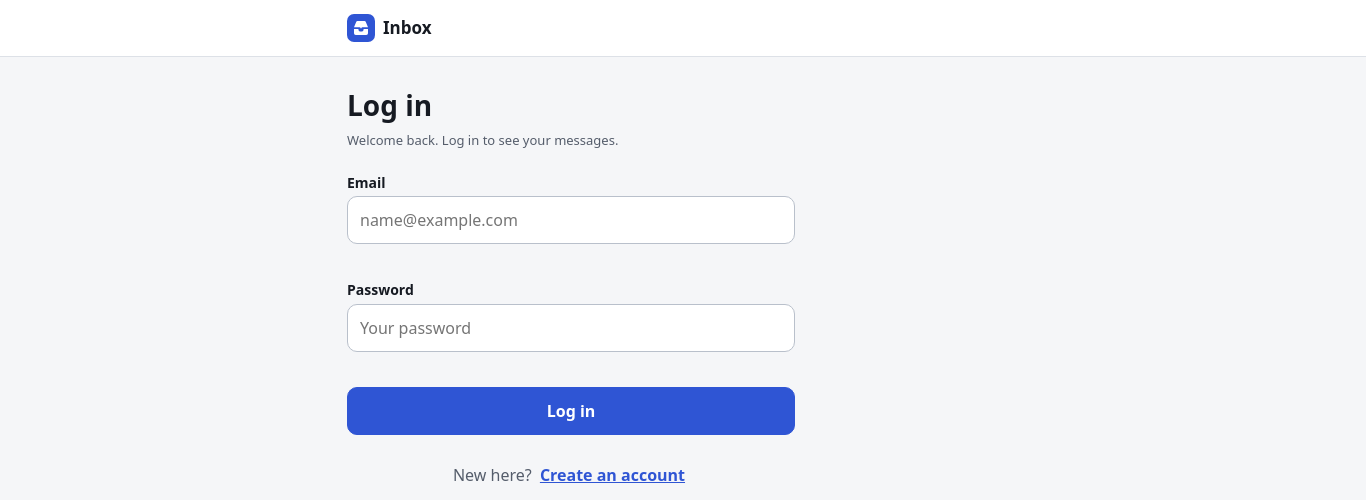
Log in › signs in and shows the inbox
The width and height of the screenshot is (1366, 500).
Step 1. Type " ada@example.com " into the field labelled "Email" → point(571, 220), box [347,196,795,244]
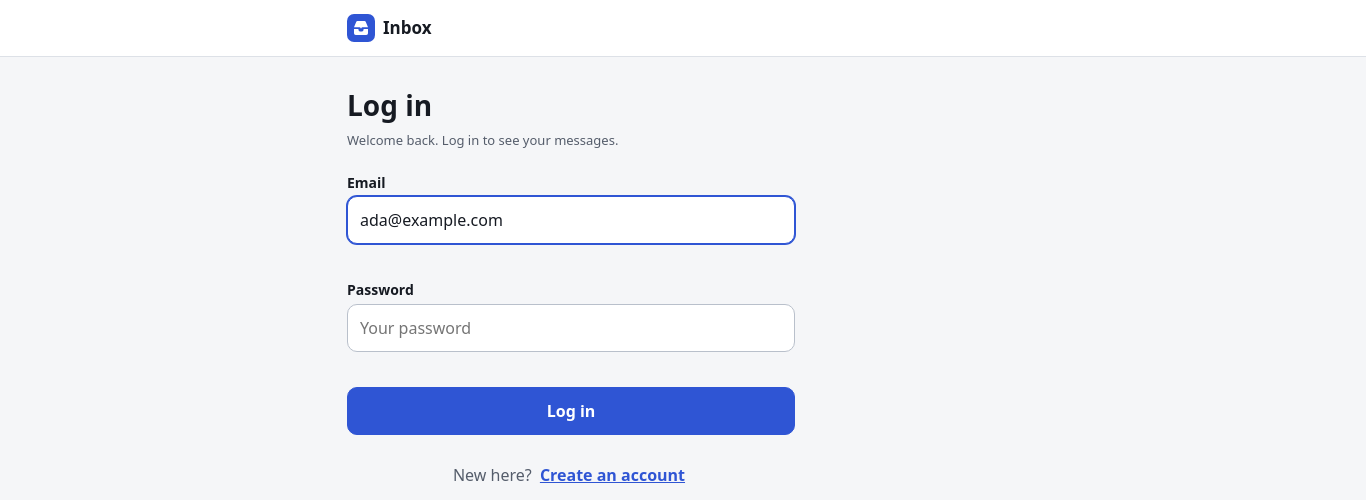
Step 2. Type "correct horse" into the password field labelled "Password" → point(571, 328), box [347,304,795,352]
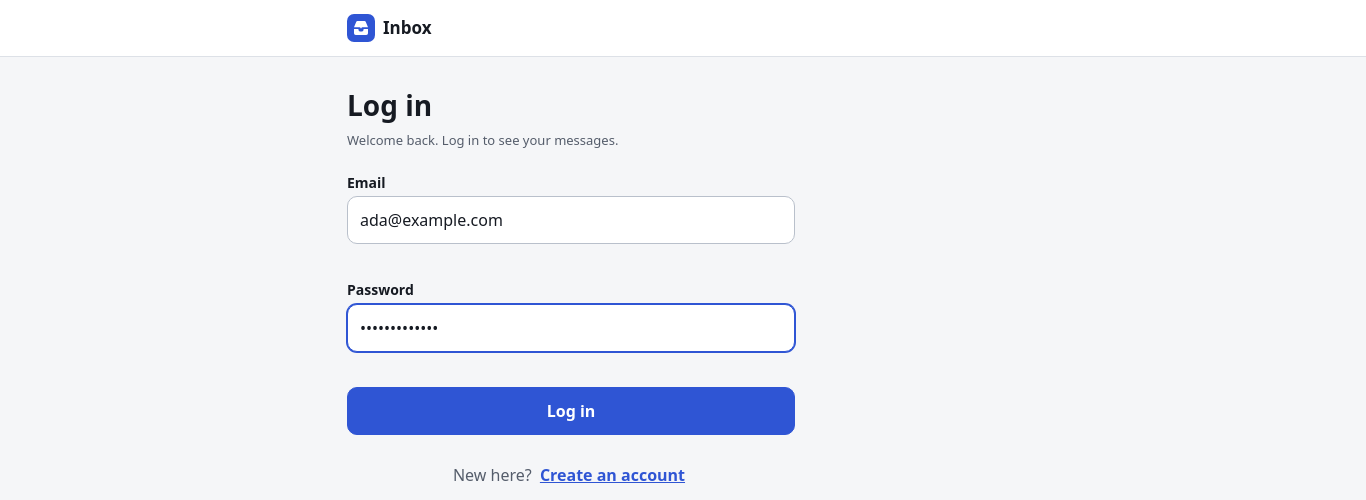
Step 3. Click the button "Log in" → point(571, 411), box [347,387,795,435]
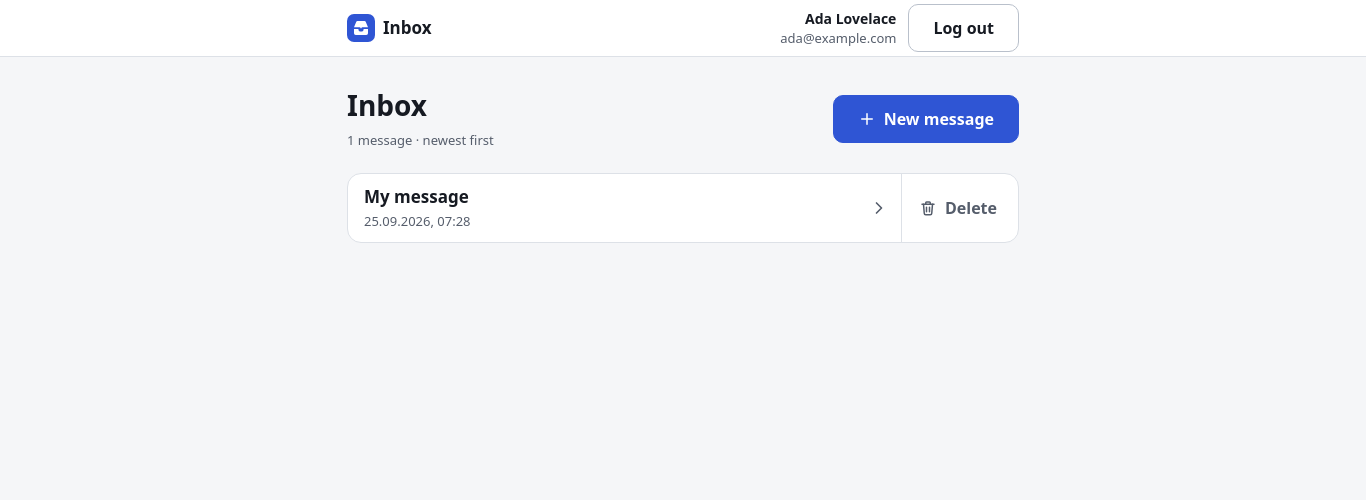
Expected: the heading "Inbox" is shown, [347,86,427,124]
